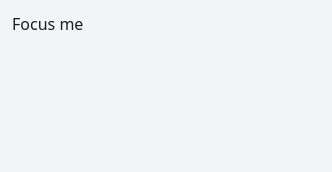
Test: Tooltip › Interactions › shows tooltip on focus
Focus the button "Focus me": x=48, y=24 12,12 -> 83,36
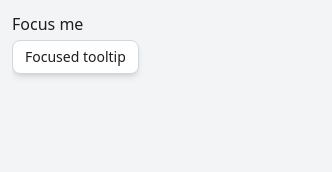
Expected: the tooltip "Focused tooltip" is shown, 12,40 -> 139,74
